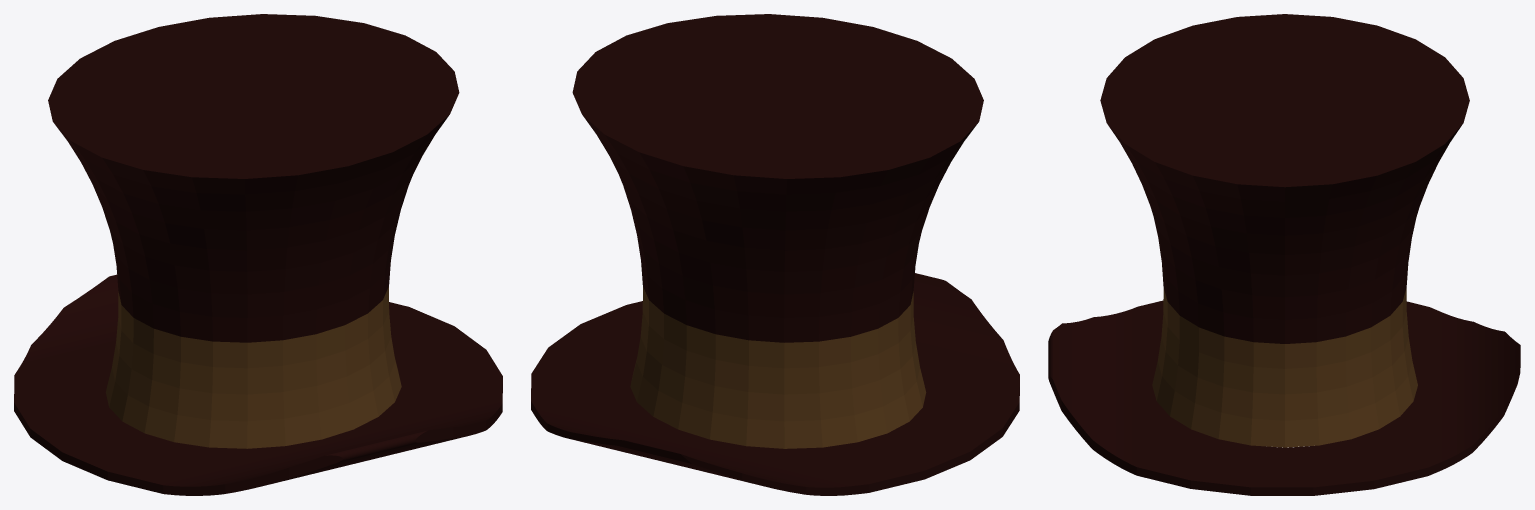
File: hat_brown.obj
3 views of the same model, side by side, from view 1: azimuth 30°, elevation 25°; view 2: azimuth 150°, elevation 25°; view 3: azimuth 270°, elevation 25° (orthographic). The views are drawn at different scales.
Visible parts, largest first — view 1: Component5.003; view 2: Component5.003; view 3: Component5.003.
Part boxes in pixels (left/top/right/bottom): Component5.003: left=14, top=14, right=502, bottom=495; Component5.003: left=531, top=14, right=1019, bottom=495; Component5.003: left=1048, top=14, right=1520, bottom=495.
Bounding box in the file's own units: 0.2502 × 0.1704 × 0.2488.
